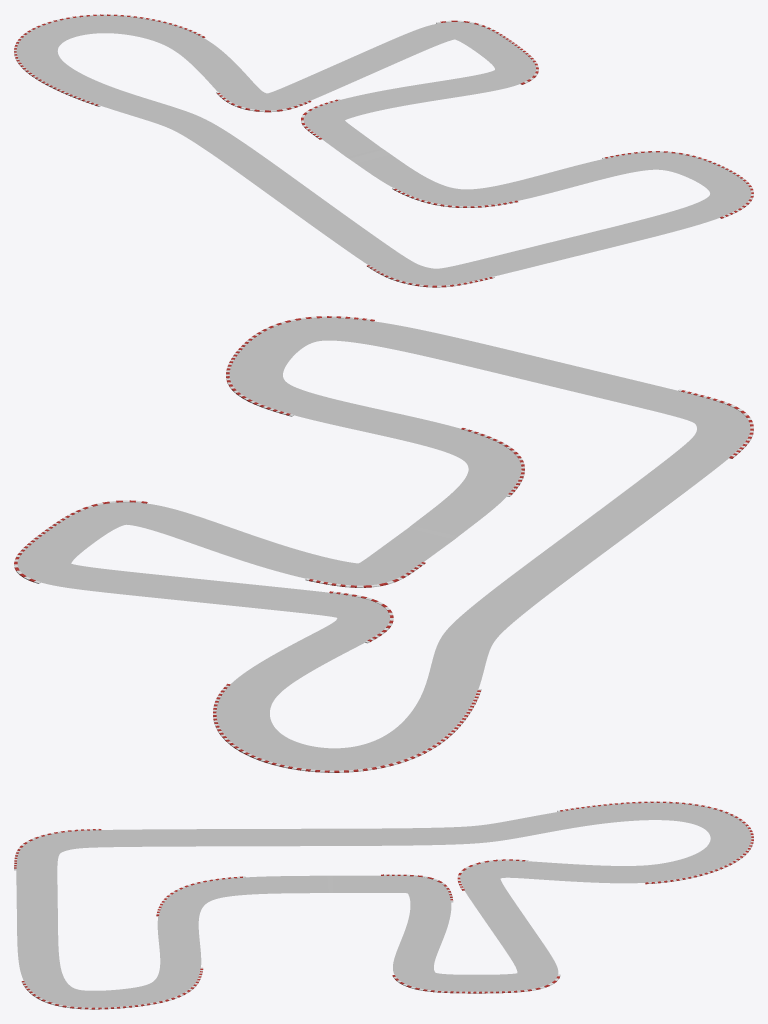
The model's file is trackTest.fbx.
3 renders of one model, top to bottom at view 1: azimuth 30°, elevation 25°; view 2: azimuth 150°, elevation 25°; view 3: azimuth 270°, elevation 25°, orthographic. The views are drawn at different scales.
Visible parts, largest first — view 1: Road, border3, border4; view 2: Road, border3, border4; view 3: Road, border3, border4, border1.
Boxes of the visible parts, <box> form: Road: <box>16,16,751,285</box>; border3: <box>14,14,205,106</box>; border4: <box>602,151,753,218</box>; Road: <box>17,318,750,770</box>; border3: <box>213,683,481,772</box>; border4: <box>226,316,374,416</box>; Road: <box>16,803,751,1007</box>; border3: <box>557,801,753,884</box>; border4: <box>21,967,203,1009</box>; border1: <box>392,974,560,993</box>.
Bounding box in the file's own units: 239 × 361 × 0.3633.
